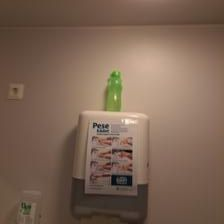bottle: (101, 66, 124, 116)
